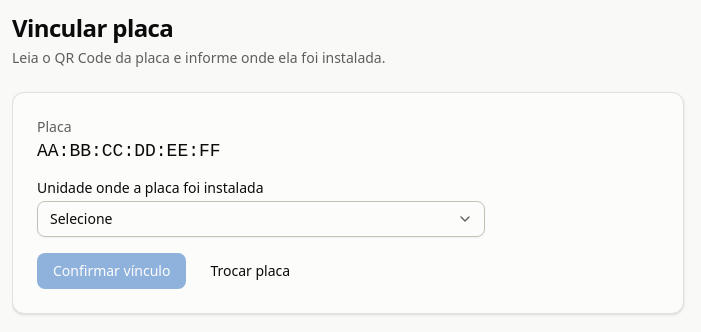
Test: BindDevicePage › o MAC vindo da quarentena pula a leitura e mostra as leituras recuperadas
The image size is (701, 332).
Expected: the button "Confirmar vínculo" is disabled, [37,253,186,289]
Select "Câmara 1" in the dropdown labelled "Unidade onde a placa foi instalada". click: x=261, y=219
box: [37,201,485,237]
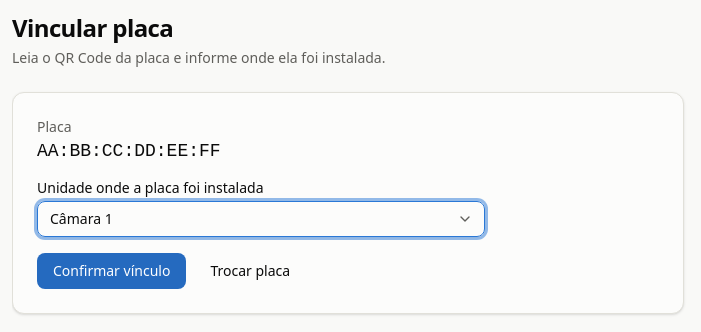
Click the button "Confirmar vínculo". click: x=112, y=271
box: [37,253,186,289]
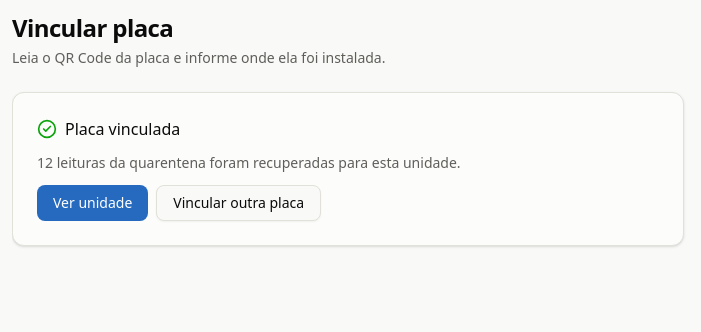
Now the text "12 leituras da quarentena foram recuperadas" is shown, box [37,153,461,172]
